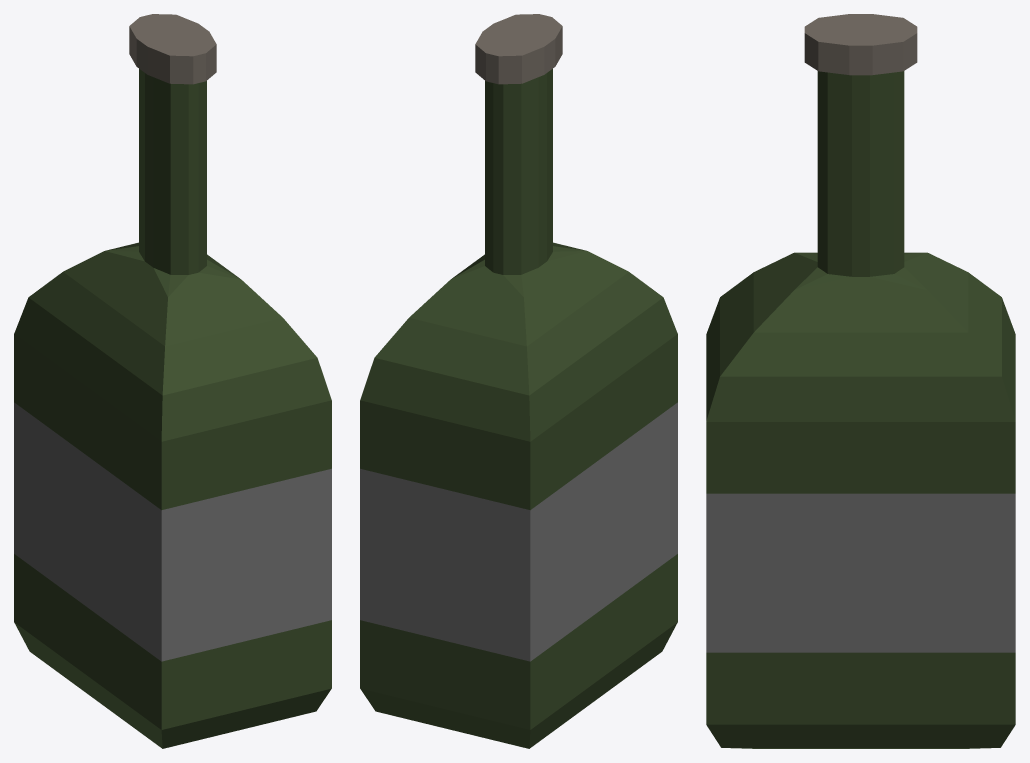
The model's file is Alcohol_Bottle_02.fbx.
3 views of the same model, side by side, from view 1: azimuth 30°, elevation 25°; view 2: azimuth 150°, elevation 25°; view 3: azimuth 270°, elevation 25° (orthographic). The views are drawn at different scales.
Parts seen in each view (by area): view 1: Bottle_02; view 2: Bottle_02; view 3: Bottle_02.
Part boxes in pixels (bbox=[...]): Bottle_02: bbox=[14, 14, 331, 748]; Bottle_02: bbox=[360, 14, 677, 748]; Bottle_02: bbox=[706, 14, 1015, 748].
Bounding box in the file's own units: 18.21 × 67.15 × 27.31.
